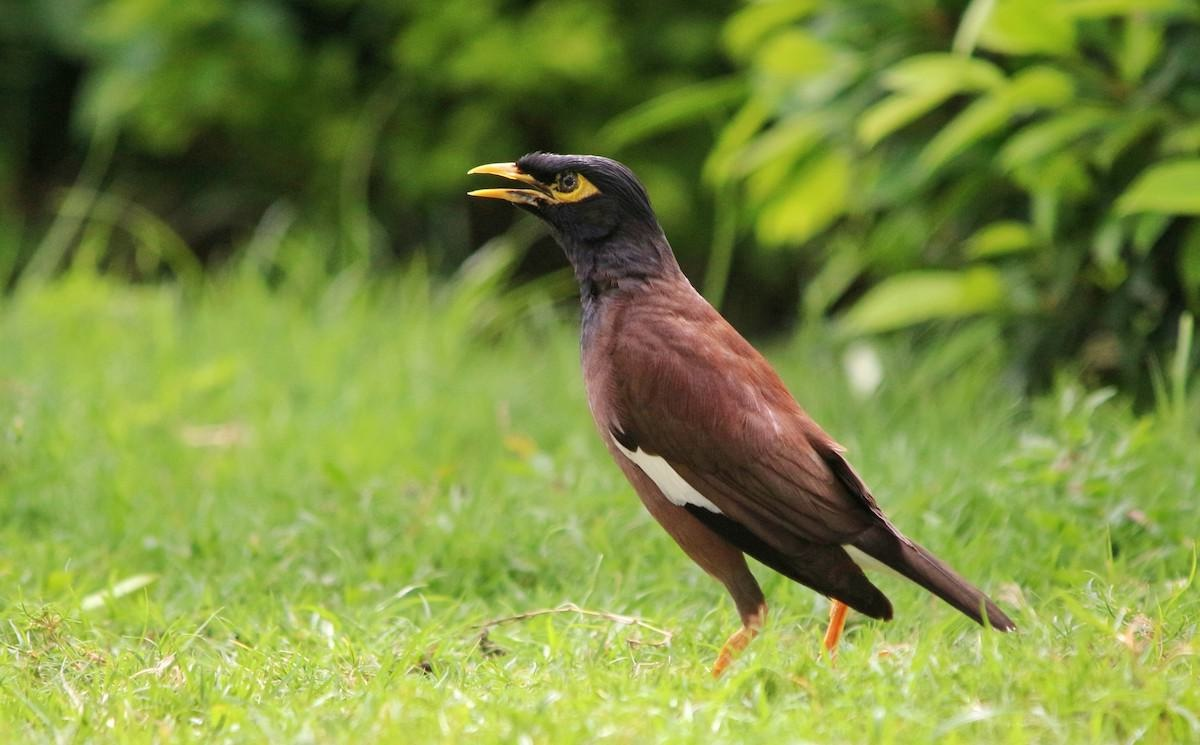myna: (459, 138, 1039, 664)
